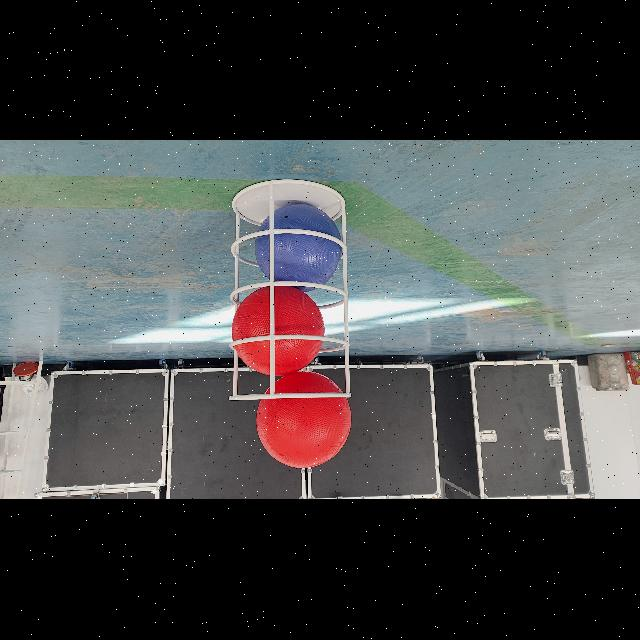B: (255, 204, 342, 292)
R: (256, 372, 352, 470), (231, 286, 325, 378)
S: (222, 173, 360, 404)
